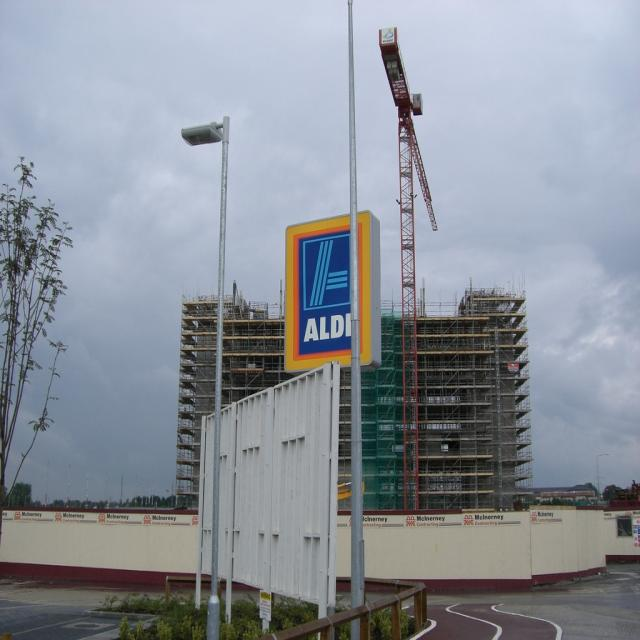aldi: (286, 211, 373, 372)
